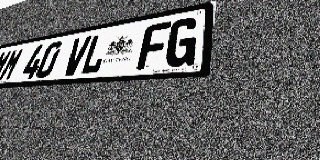0: (34, 41, 64, 78)
4: (19, 43, 49, 80)
F: (136, 21, 171, 70)
G: (163, 16, 199, 68)
L: (79, 32, 111, 75)
M: (0, 48, 25, 81), (0, 50, 13, 82)
V: (61, 35, 92, 76)
